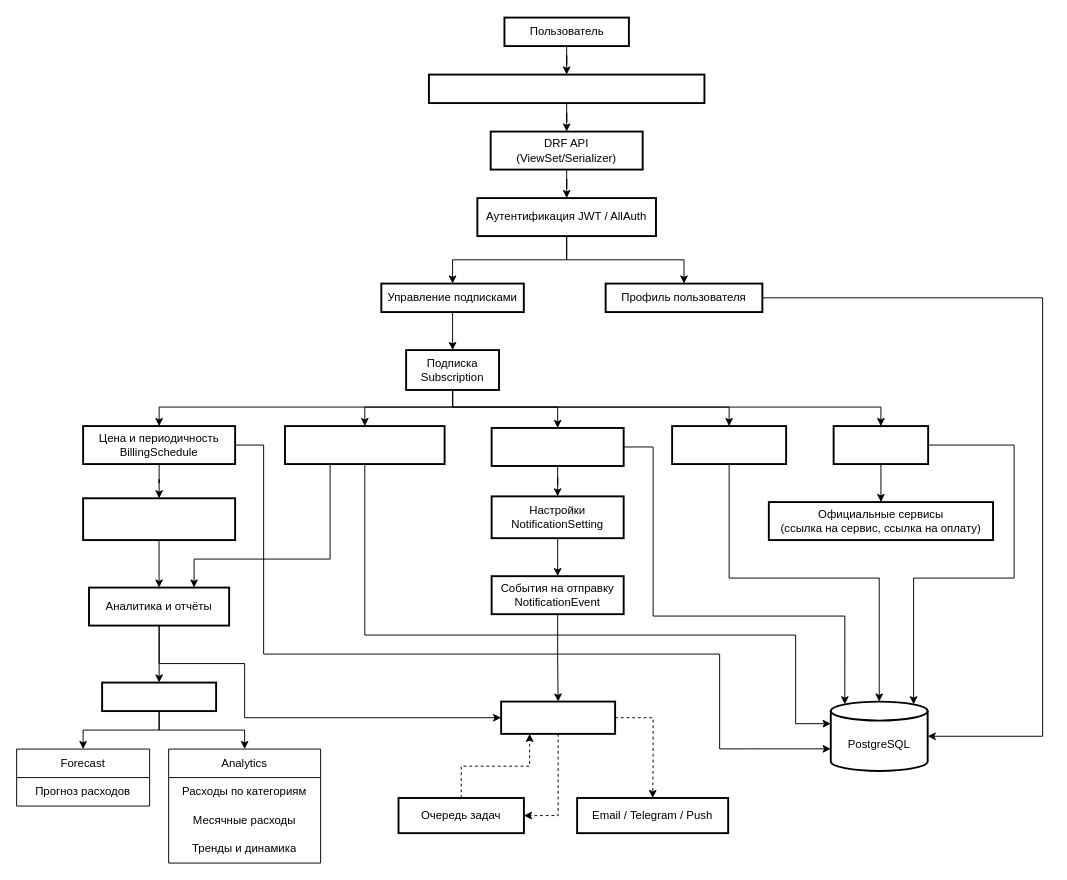
Image size: 1067x880. Some labels were removed from this diagram. Each missing label, with the centre of its shape:
Celery: the point at 558,717
Web / API / Telegram Bot / Mobile App (в будущем): the point at 566,88
Агрегация данных: the point at 159,696
История изменений цен PriceHistory: the point at 364,445
Категория Category: the point at 729,445
Напоминания Notification: the point at 557,446
Расчёт дат списаний BillingService: the point at 159,519
Сервис Provider: the point at 880,445
